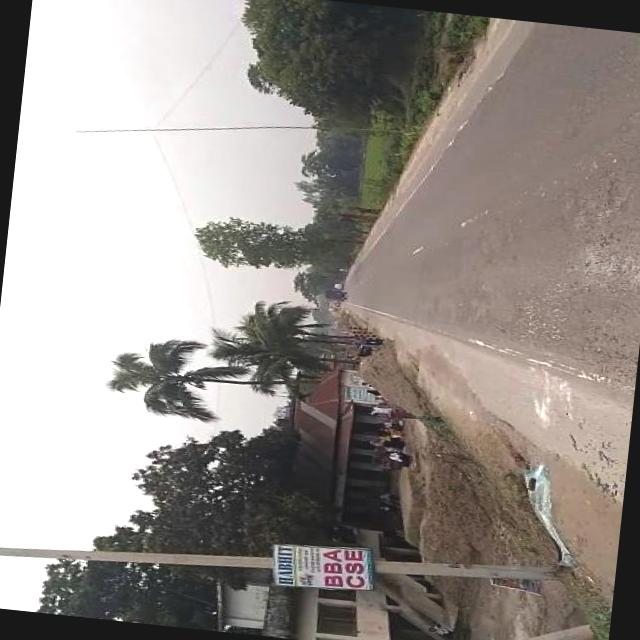car: (330, 282, 340, 289)
truck: (322, 289, 344, 300)
